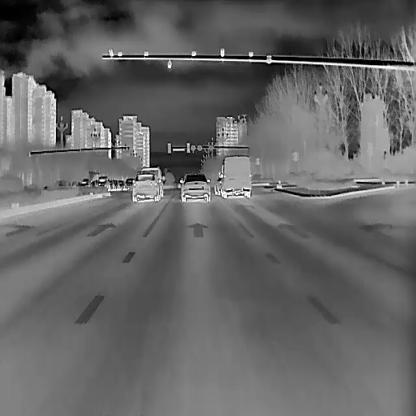car: (217, 156, 252, 198), (178, 173, 211, 202), (131, 170, 161, 201), (140, 163, 163, 197), (97, 174, 110, 190), (123, 176, 133, 190), (107, 177, 115, 191), (116, 178, 125, 189), (113, 178, 120, 189)
